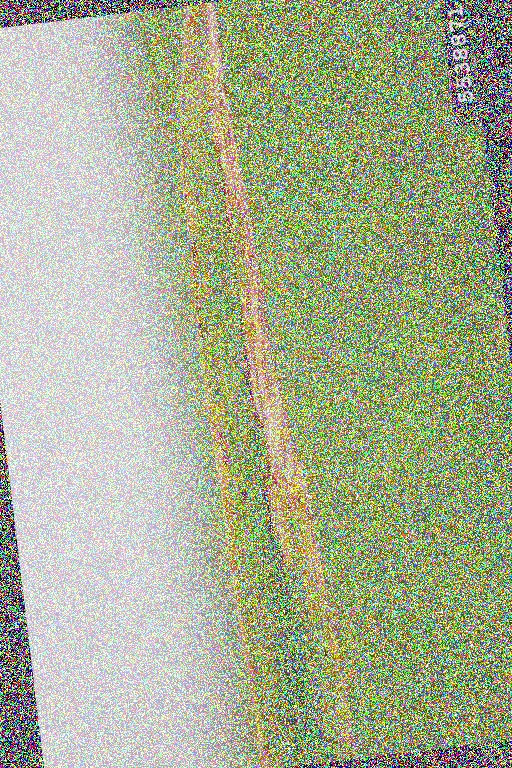Leaf_Blast: (193, 8, 323, 715)
